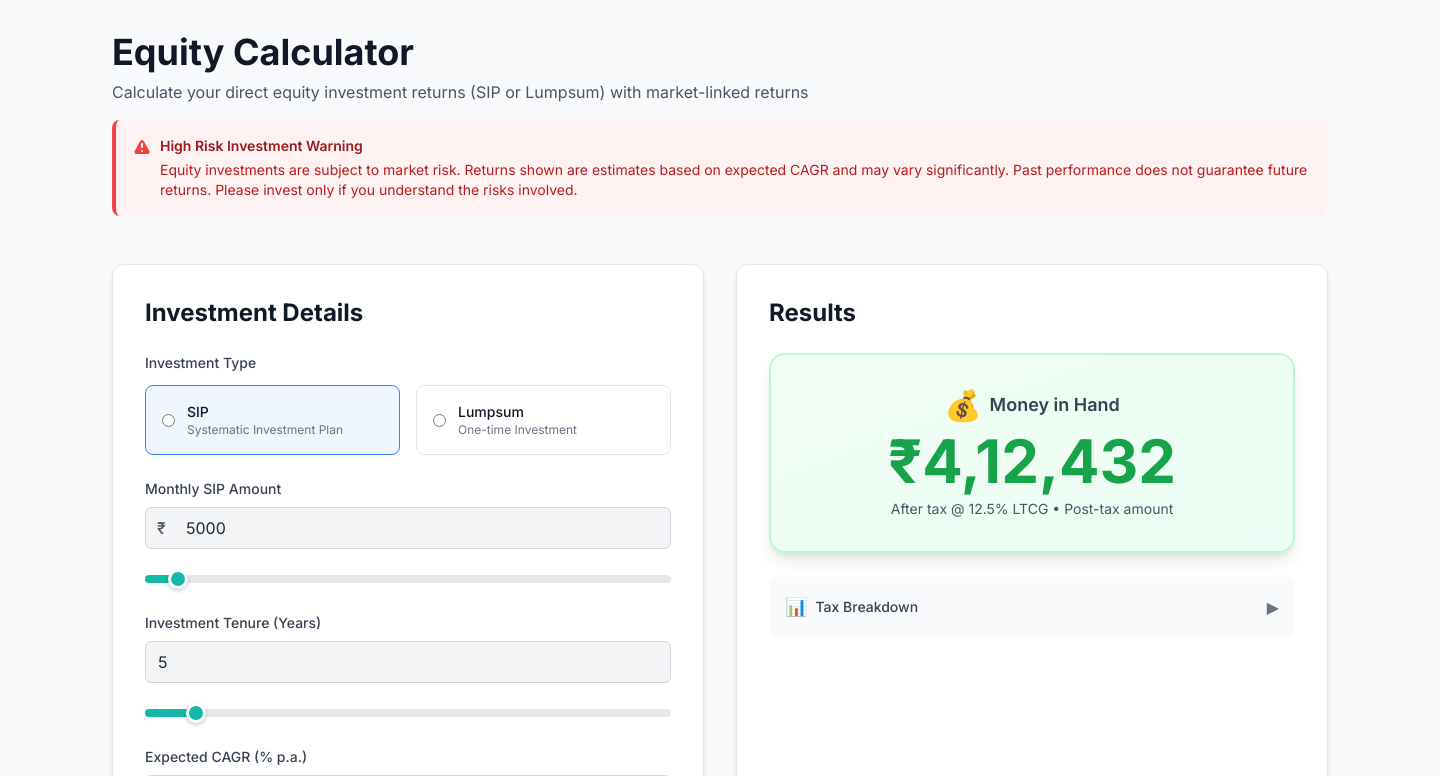
Test: Equity Calculator › EQ-08 / EQ-09: Validation › EQ-09: should validate tenure between 1-50 years
Type "51" into the number field with placeholder "5" below "Investment Tenure (Years)" at coordinates (408, 662), box left=145, top=641, right=671, bottom=683
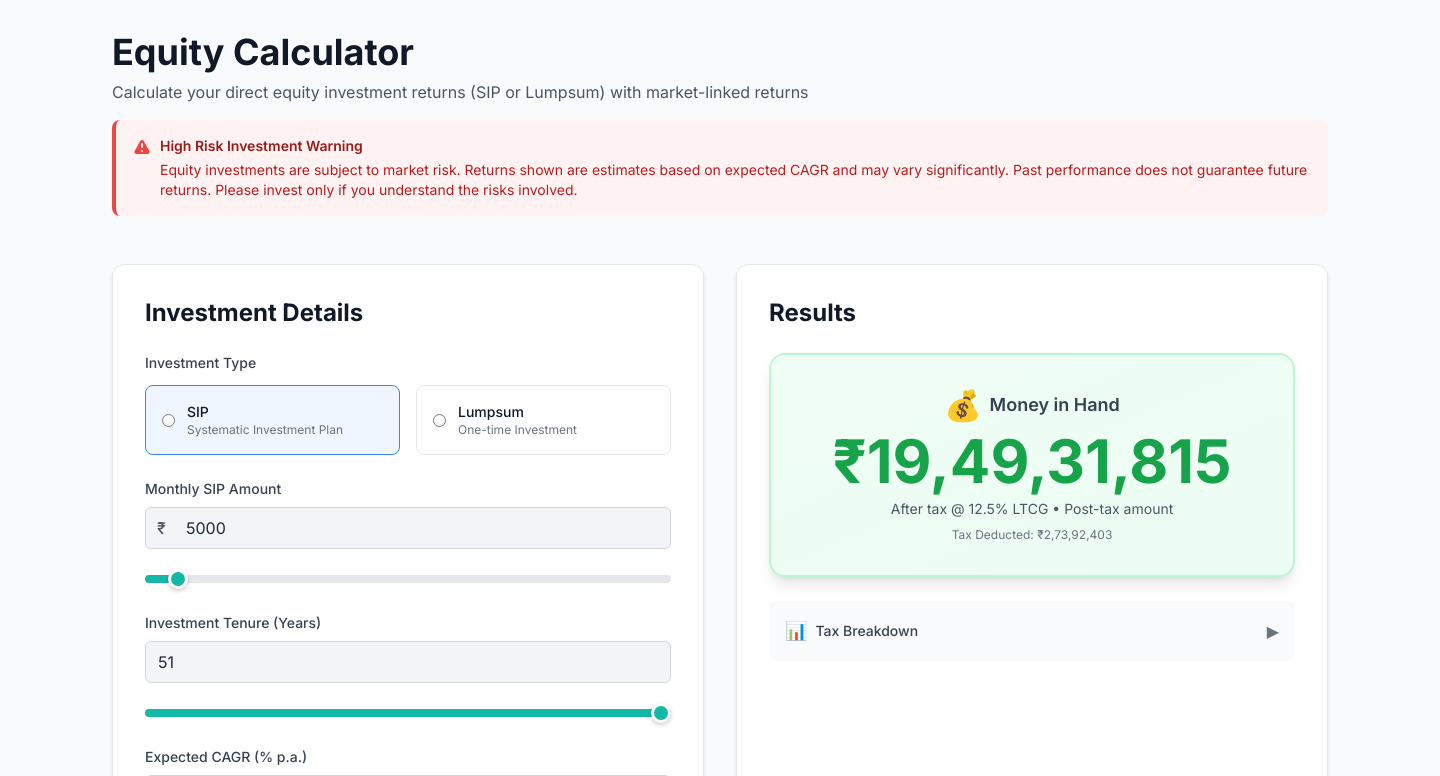
Leave the number field with placeholder "5" below "Investment Tenure (Years)", box left=145, top=641, right=671, bottom=683
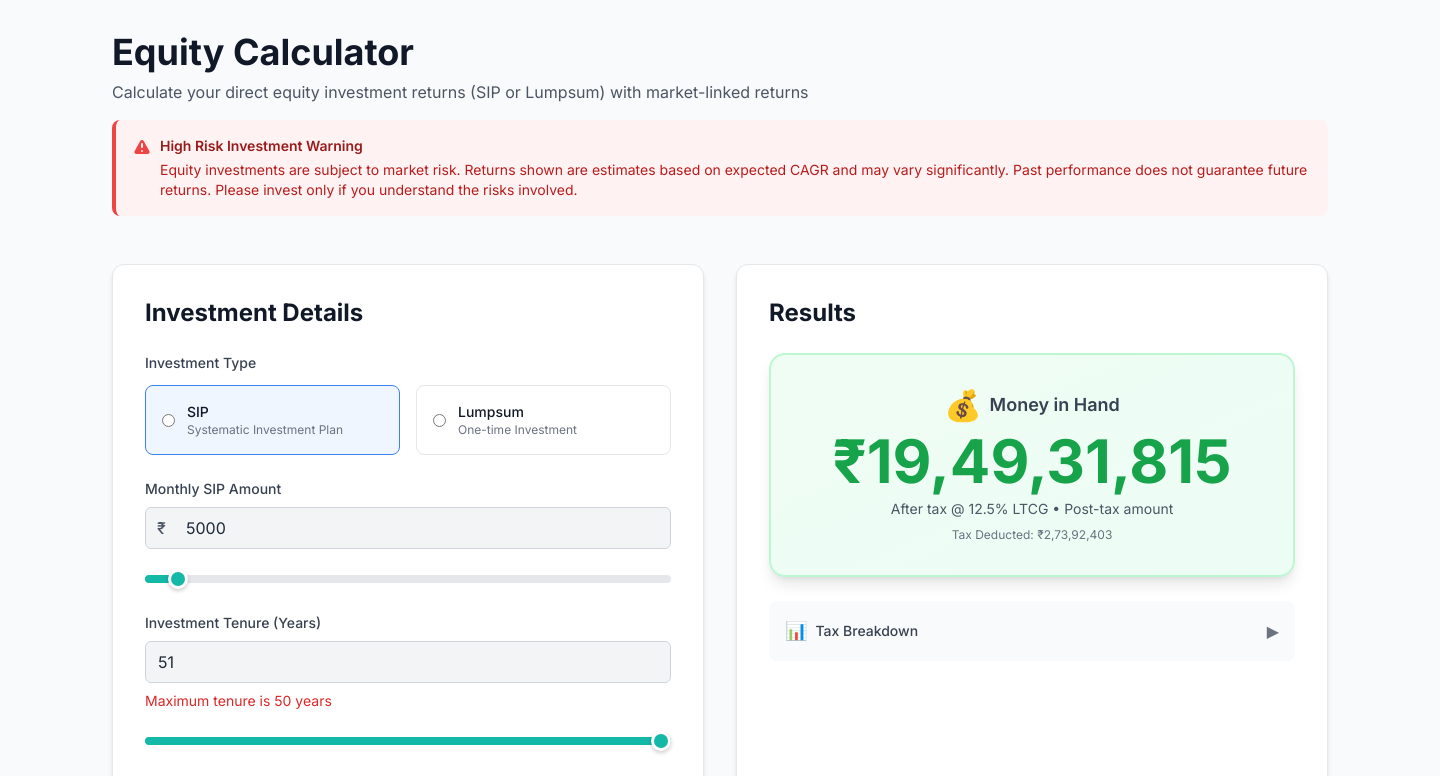
Expected: the text "Maximum tenure is 50 years" is shown, left=145, top=692, right=332, bottom=709
